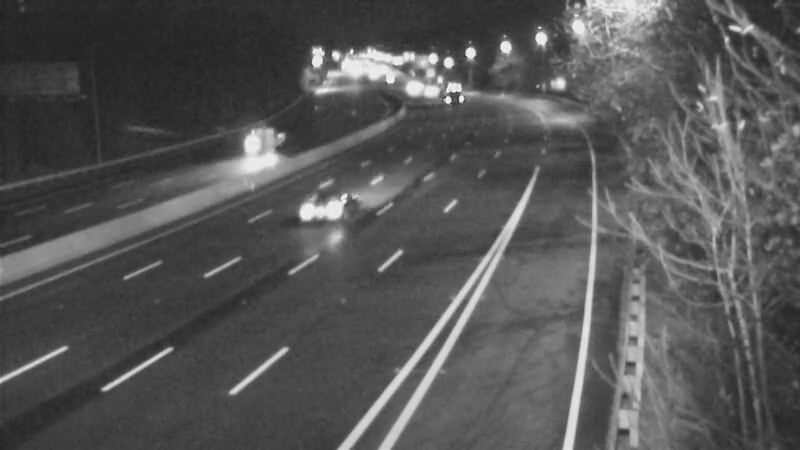vehicle: (286, 160, 366, 240), (386, 61, 436, 111), (403, 69, 453, 119), (425, 67, 475, 117), (233, 119, 283, 169)
